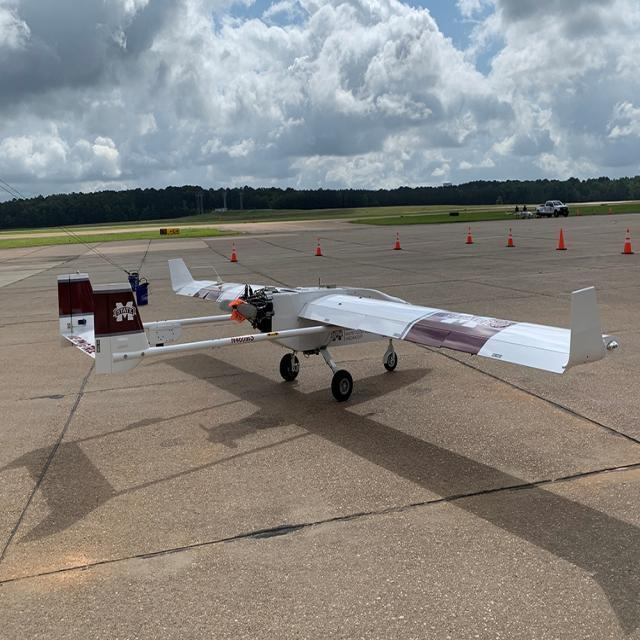iha: (46, 222, 620, 452)
